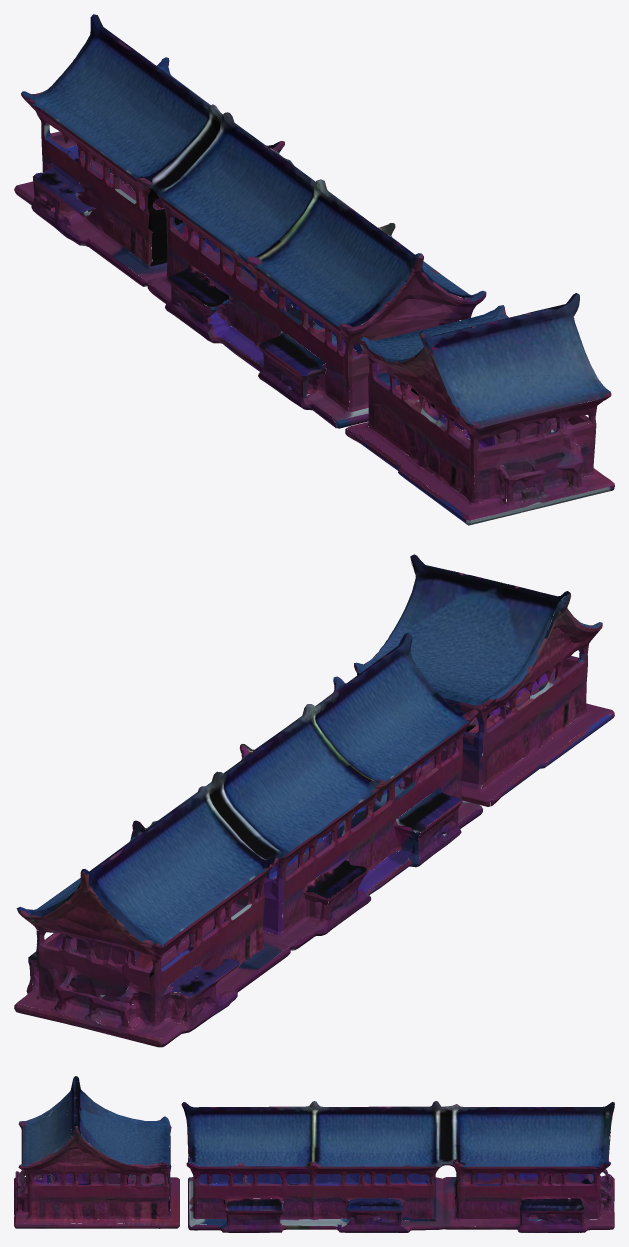
The model's file is 19_ghost_corridor.glb.
3 views of the same model, one above another, from view 1: azimuth 30°, elevation 25°; view 2: azimuth 150°, elevation 25°; view 3: azimuth 270°, elevation 25° (orthographic). The views are drawn at different scales.
Visible parts, largest first — view 1: 19_ghost_corridor.ply; view 2: 19_ghost_corridor.ply; view 3: 19_ghost_corridor.ply.
Boxes of the visible parts, x1,y1,x2,y2 form: 19_ghost_corridor.ply: (14, 14, 614, 525); 19_ghost_corridor.ply: (14, 554, 614, 1047); 19_ghost_corridor.ply: (14, 1076, 614, 1232).
Size of the model in its own units: 0.2139 by 0.1957 by 1.
Materials: 1 (1 with a texture image).
